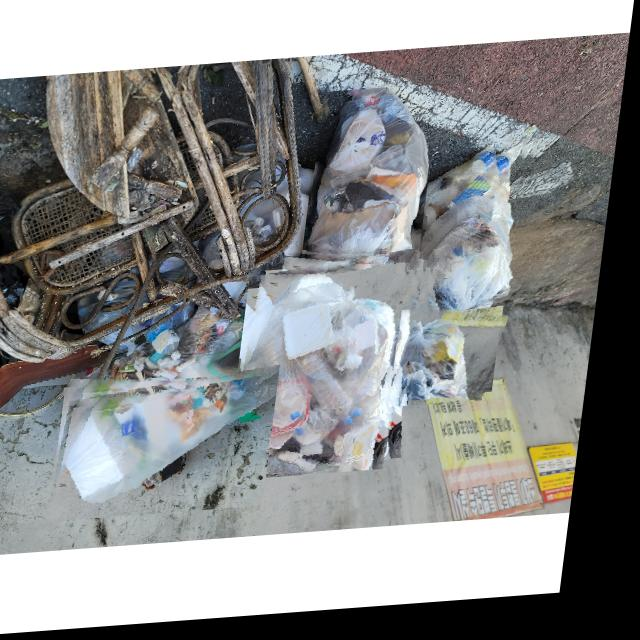other_trashbag: (239, 276, 432, 478), (59, 386, 288, 521), (310, 91, 442, 261), (419, 148, 526, 323), (402, 314, 517, 408)
